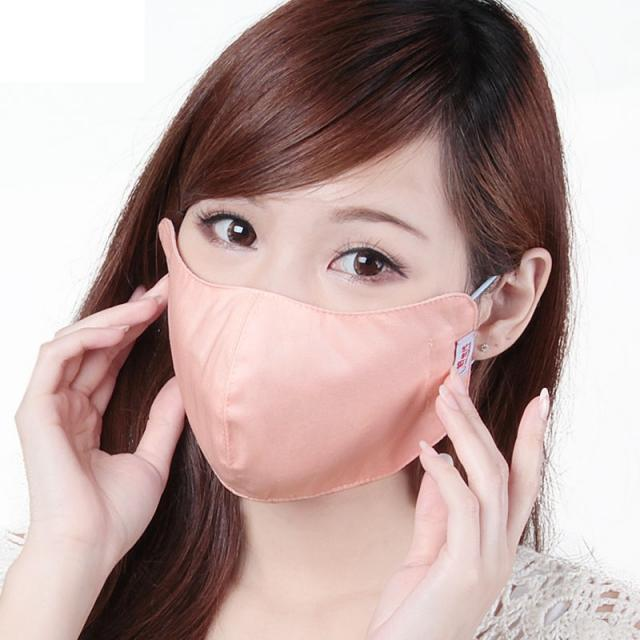mask: (168, 100, 468, 502)
